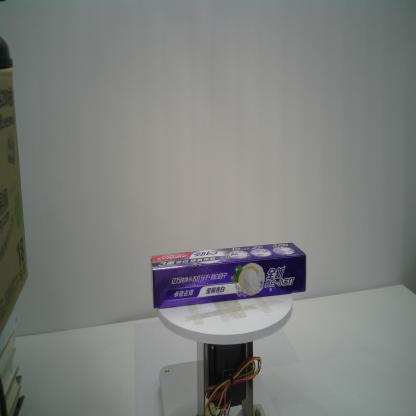Personal Hygiene: (150, 243, 306, 309)
